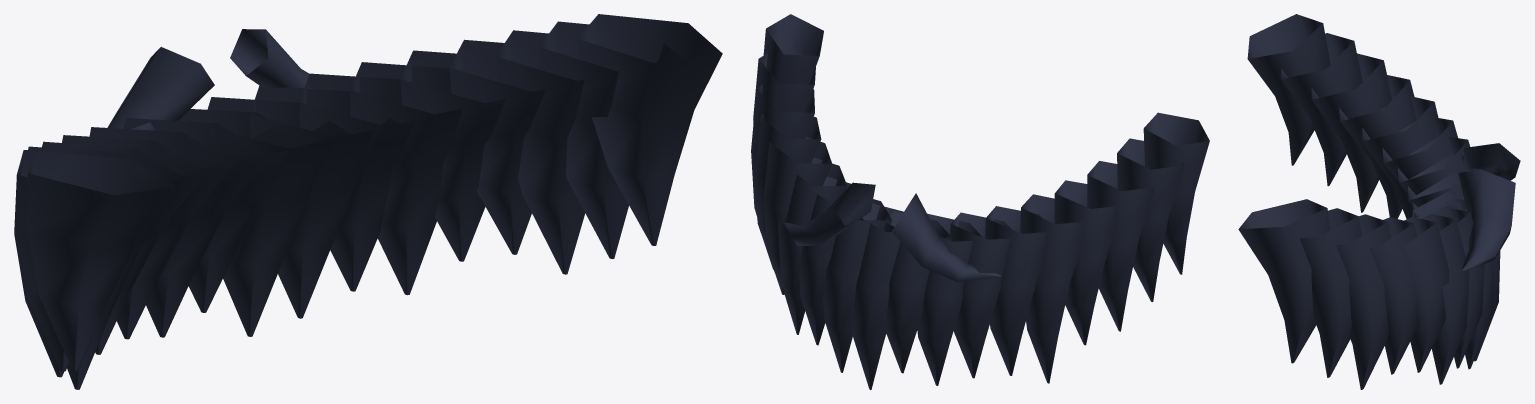
The model's file is anime_beard_short.glb.
3 renders of one model, left to right at view 1: azimuth 30°, elevation 25°; view 2: azimuth 150°, elevation 25°; view 3: azimuth 270°, elevation 25°, orthographic. The views are drawn at different scales.
Parts seen in each view (by area): view 1: beard; view 2: beard; view 3: beard.
Boxes of the visible parts, x1,y1,x2,y2 form: beard: (14, 14, 722, 389); beard: (751, 14, 1209, 389); beard: (1238, 14, 1520, 389).
Size of the model in its own units: 0.2292 by 0.1174 by 0.1295.
